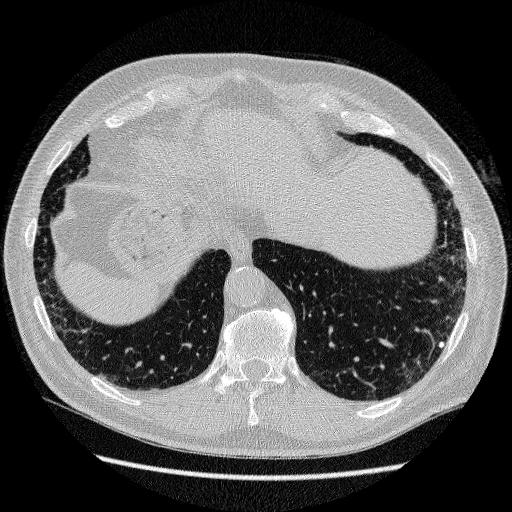nodule: (438, 339, 450, 351)
